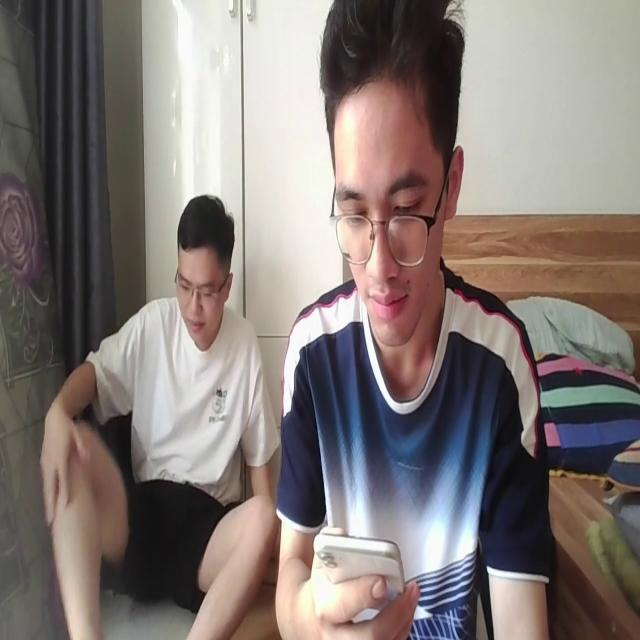extra_person: (43, 188, 279, 640)
phone: (311, 522, 408, 617)
student: (278, 0, 551, 640)
